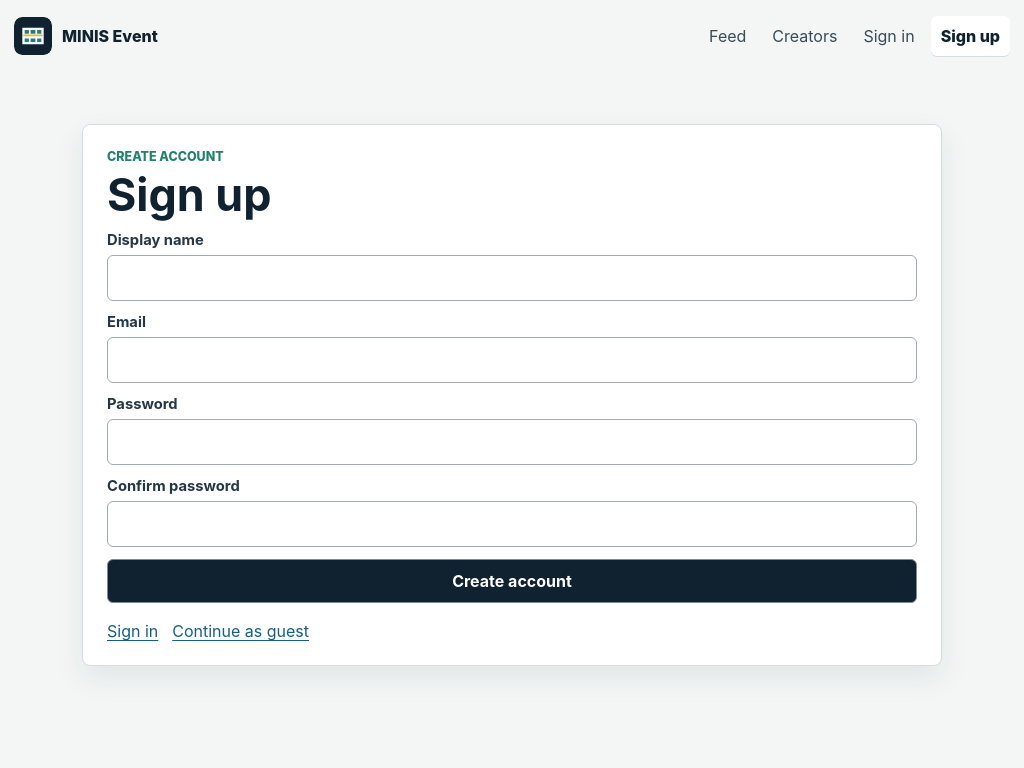
Scenario: AppRoutes authentication routes › shows registration validation and password mismatch
This screenshot has width=1024, height=768.
Click the button "Create account" at (512,581), box [107,559,917,603]
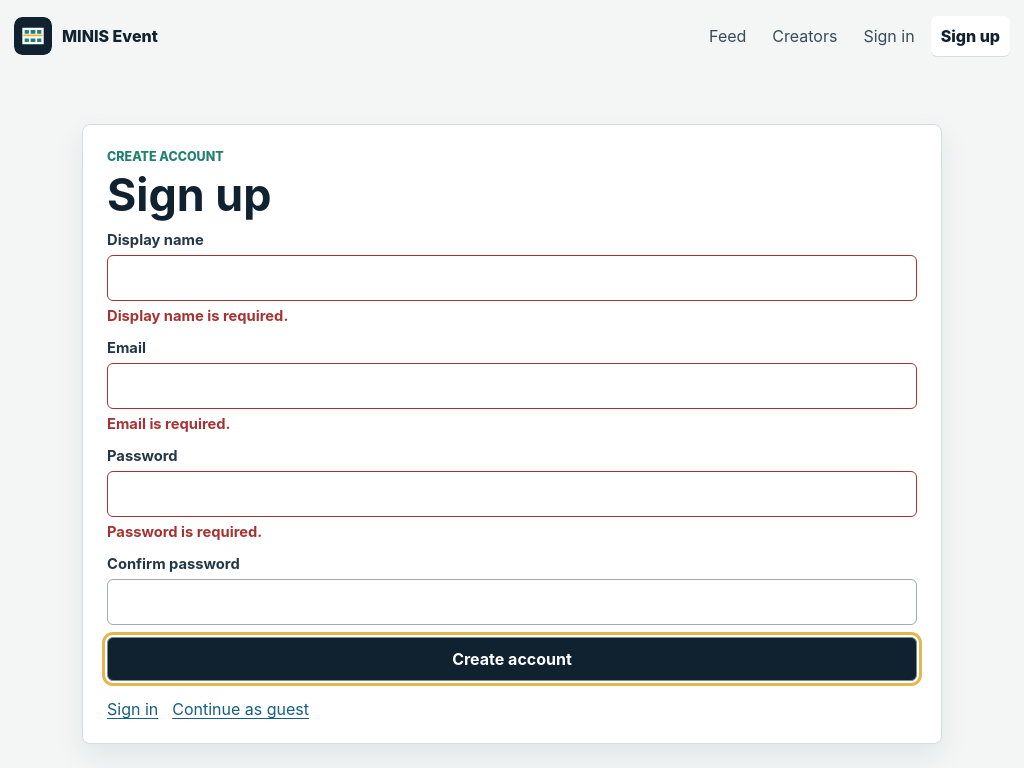
Expected: the text "Display name is required." is shown, [107,307,288,325]
Expected: the text "Email is required." is shown, [107,415,230,433]
Expected: the text "Password is required." is shown, [107,523,262,541]
Type "New Viewer" into the field labelled "Display name" at (512,278), box [107,255,917,301]
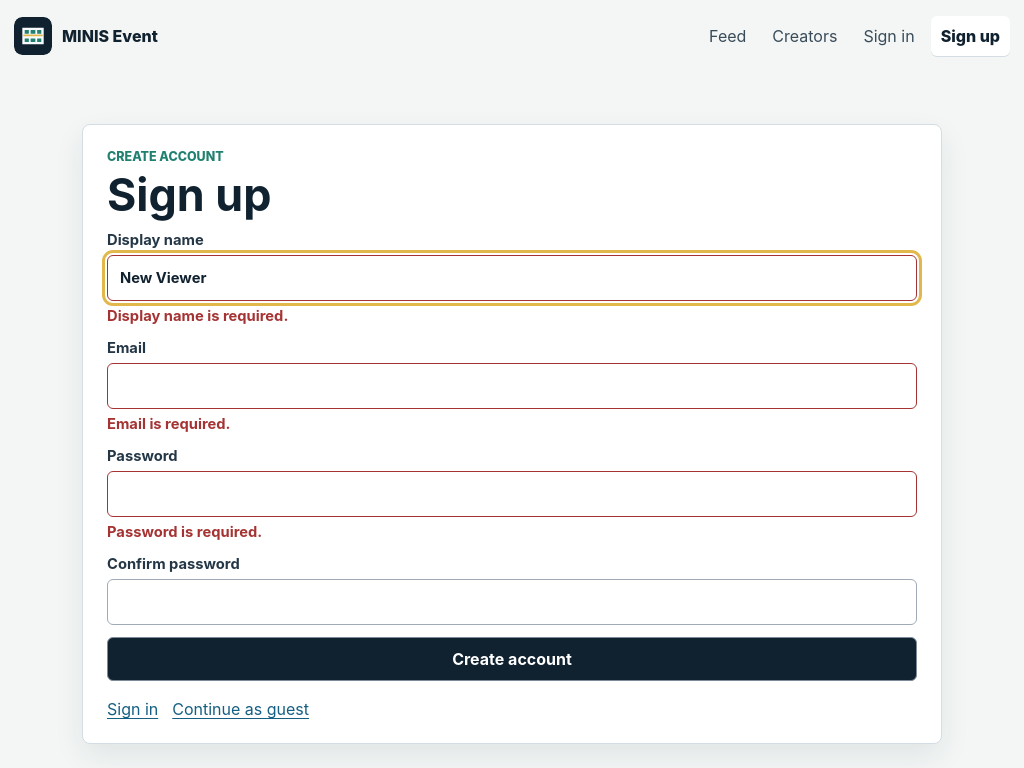
Type "new@example.com" into the field labelled "Email" at (512,386), box [107,363,917,409]
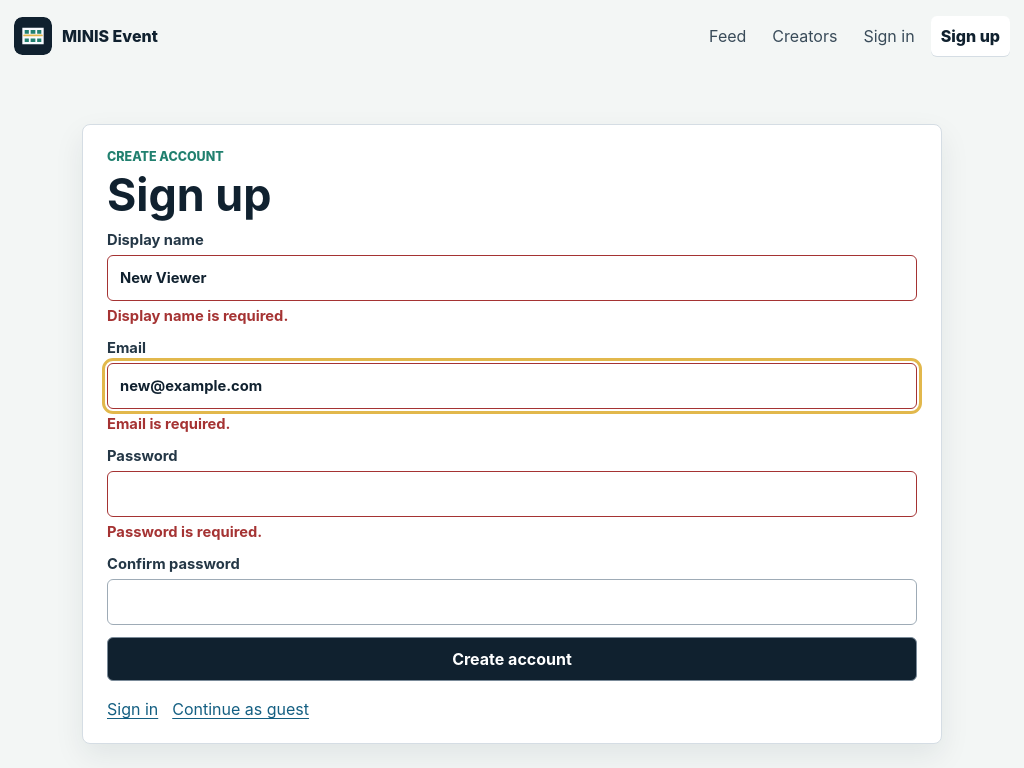
Type "viewer-password" into the password field labelled "Password" at (512,494), box [107,471,917,517]
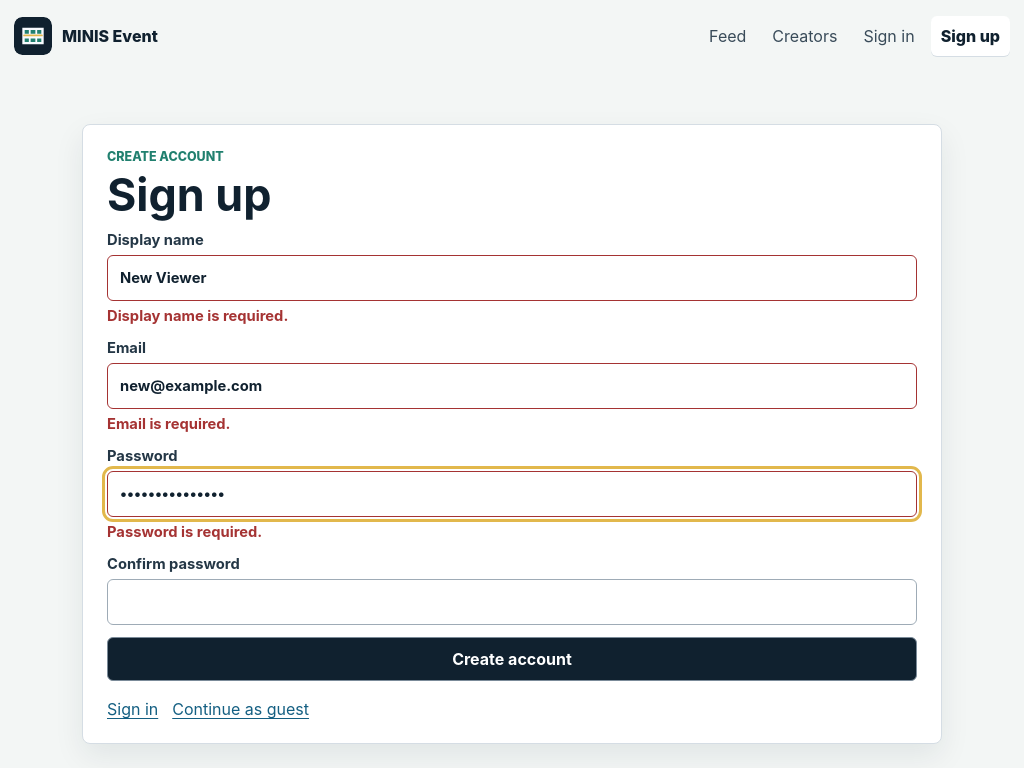
Type "different-password" into the password field labelled "Confirm password" at (512,602), box [107,579,917,625]
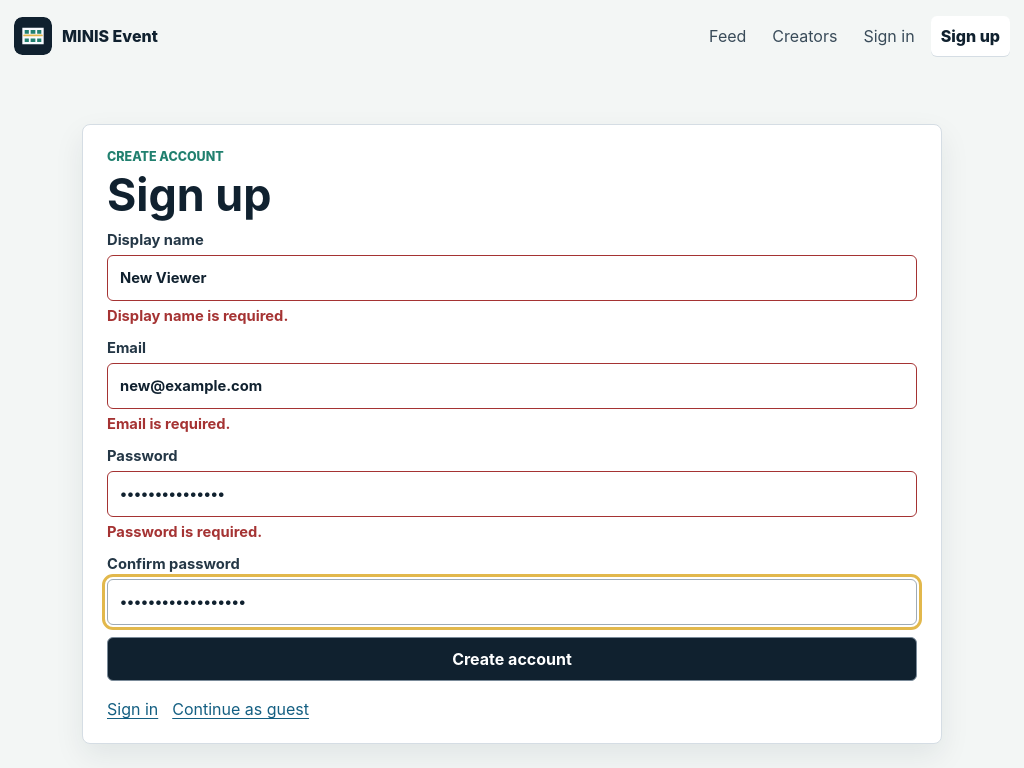
Click the button "Create account" at (512,659), box [107,637,917,681]
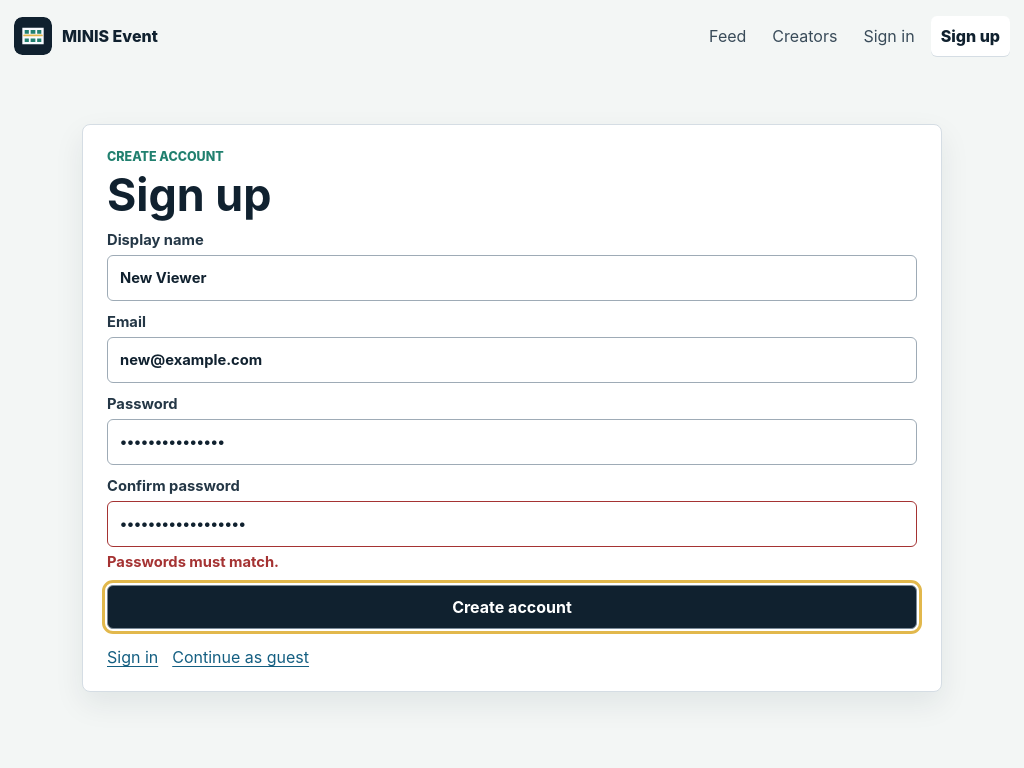
Expected: the text "Passwords must match." is shown, [107,553,279,571]
